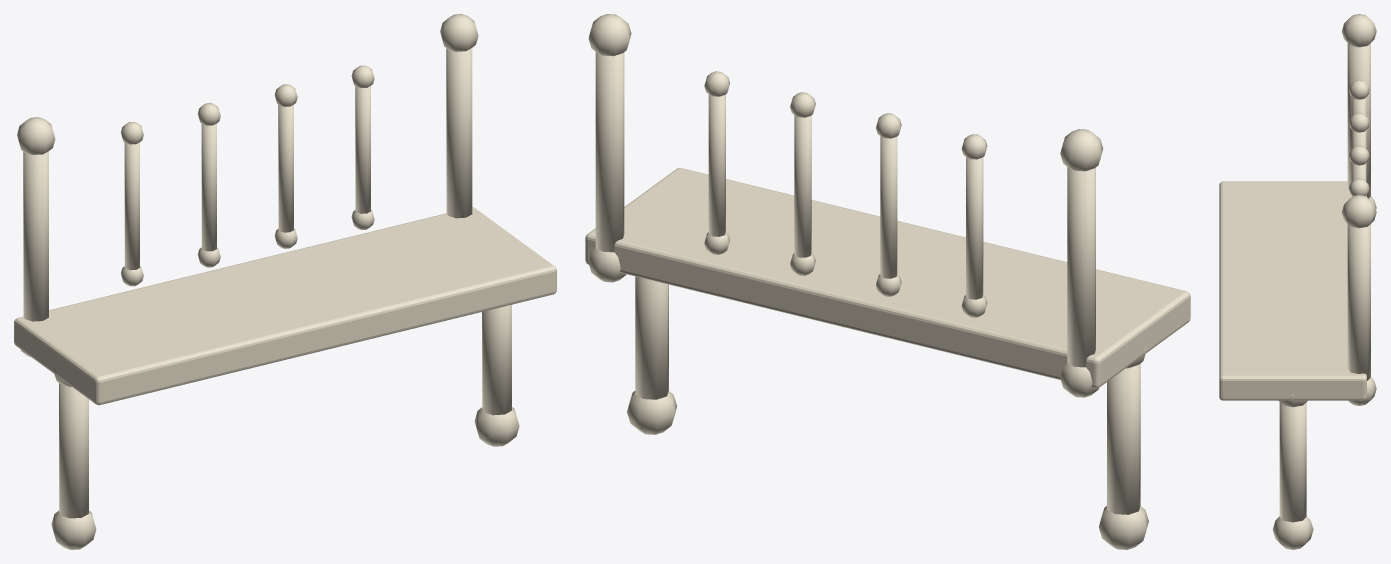
File: pew_bone.glb
The picture shows the model from 3 angles, left to right: view 1: azimuth 30°, elevation 25°; view 2: azimuth 150°, elevation 25°; view 3: azimuth 270°, elevation 25°; orthographic projection. The views are drawn at different scales.
Parts seen in each view (by area): view 1: GD_pew_bone__m0; view 2: GD_pew_bone__m0; view 3: GD_pew_bone__m0.
Boxes of the visible parts, x1,y1,x2,y2 form: GD_pew_bone__m0: (14,14,556,549); GD_pew_bone__m0: (585,14,1190,549); GD_pew_bone__m0: (1219,14,1376,549).
Bounding box in the file's own units: 1.21 × 0.9975 × 0.405.
